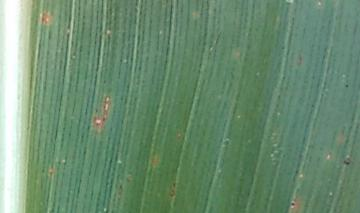tarspot: (344, 156, 350, 165), (344, 84, 348, 88), (291, 202, 294, 207)
